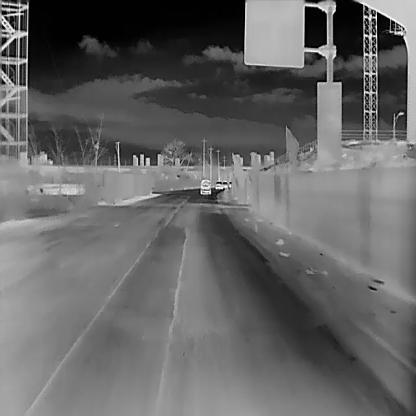car: (200, 179, 211, 194), (214, 181, 221, 189), (221, 180, 227, 187), (228, 180, 232, 188)
